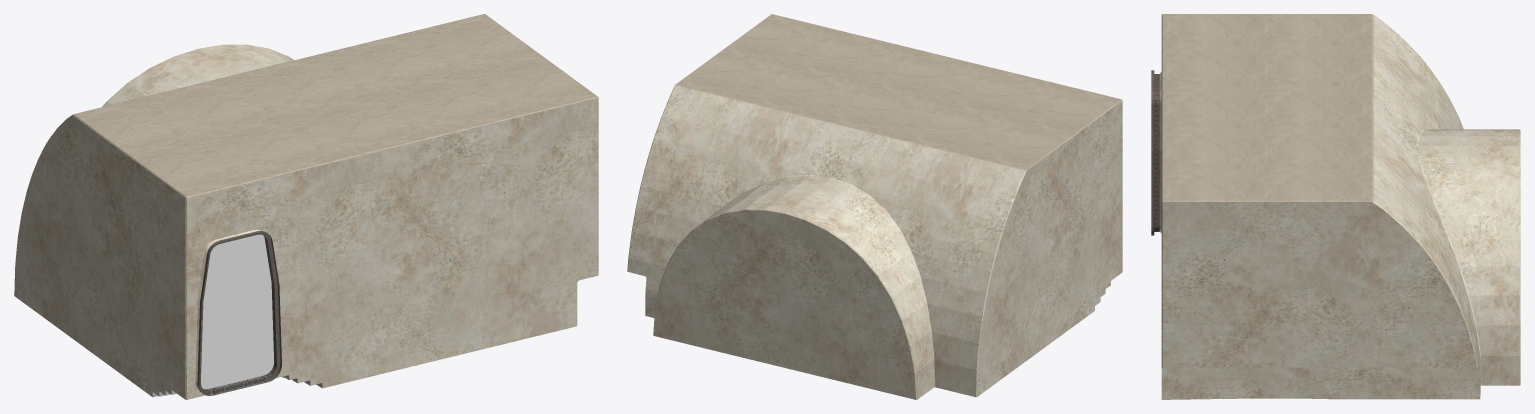
The model's file is thm_tato_house_m_s01_fp1_r10_kitchen1_mesh_r10.fbx.
3 renders of one model, left to right at view 1: azimuth 30°, elevation 25°; view 2: azimuth 150°, elevation 25°; view 3: azimuth 270°, elevation 25°, orthographic. The views are drawn at different scales.
Parts seen in each view (by area): view 1: mesh_node; view 2: mesh_node; view 3: mesh_node.
Part boxes in pixels (x1,y1,x2,y2): mesh_node: [14, 14, 598, 399]; mesh_node: [627, 14, 1122, 399]; mesh_node: [1151, 14, 1520, 399].
Size of the model in its own units: 9.06 by 4.7 by 7.54.
